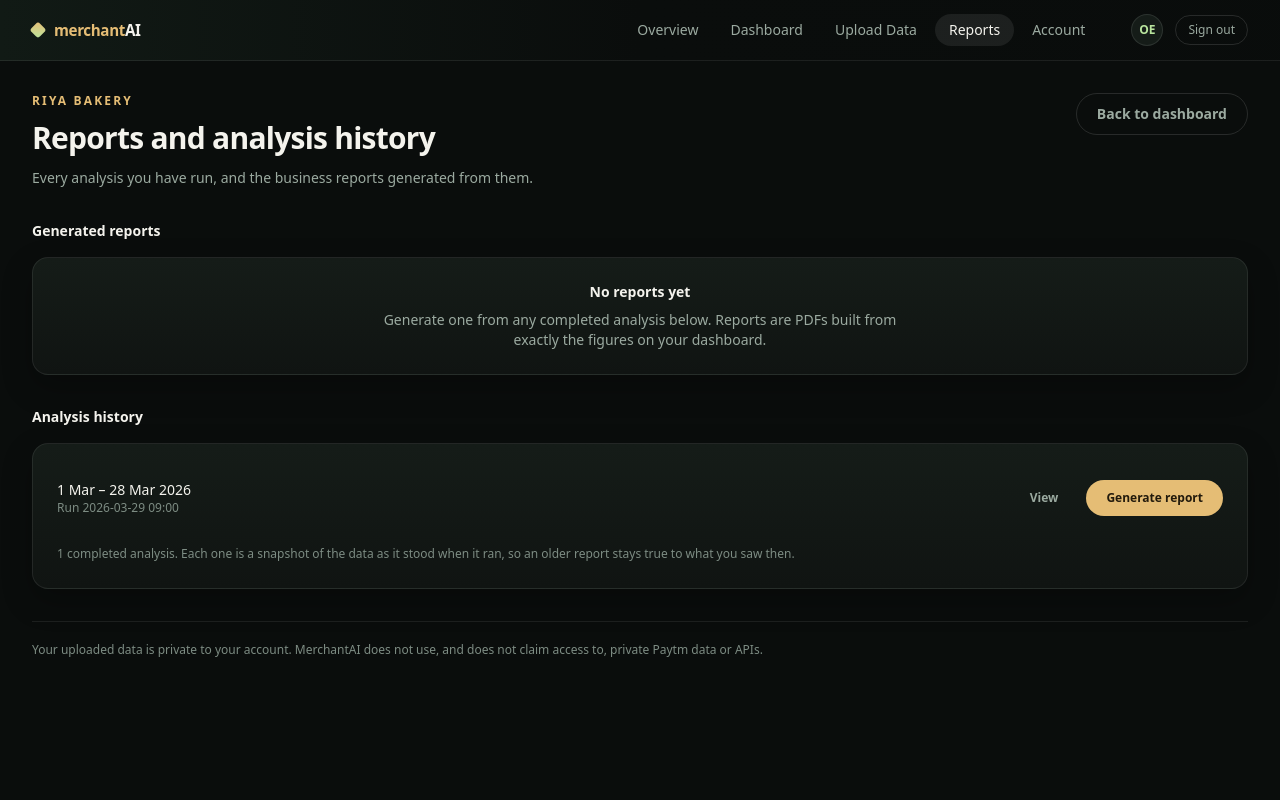
Test case: reports › lists analyses and lets one be turned into a report
Check: the heading "Analysis history" is shown, box [32,407,143,426]
Click the button "Generate report" at (1155,498), box [1086,480,1223,516]
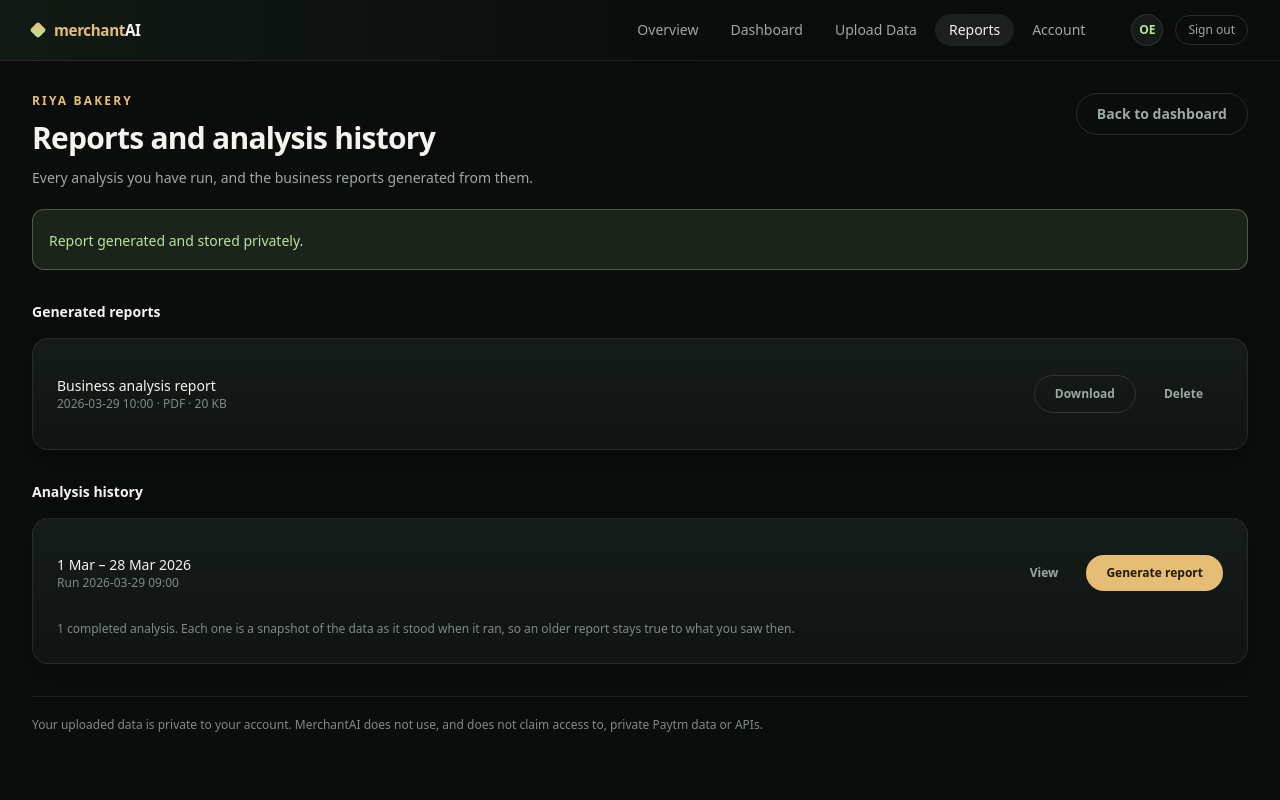
Check: the text "Report generated and stored privately." is shown, box [49,231,303,250]
Check: the button "Download" is shown, box [1034,375,1136,413]
